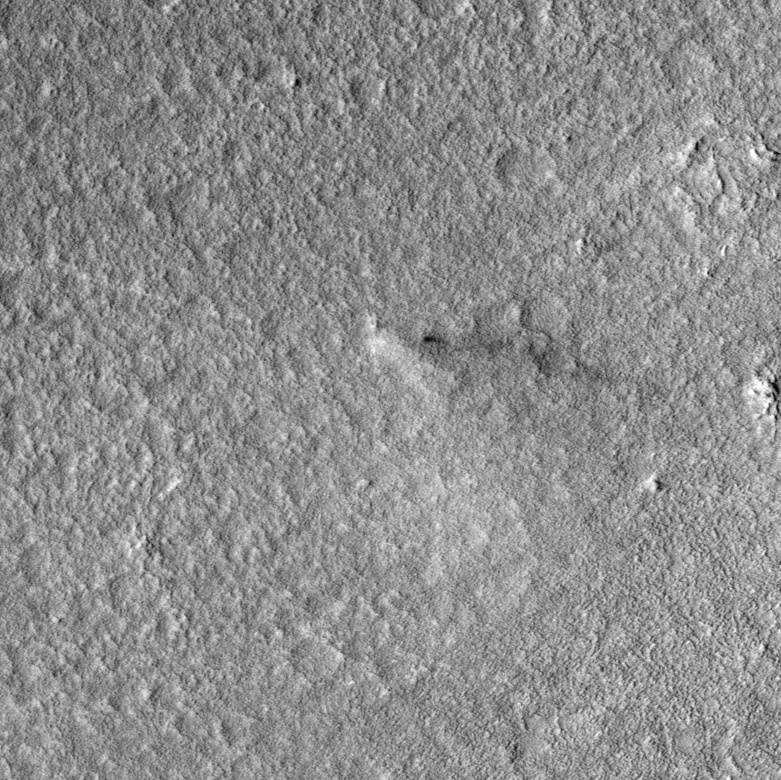dust_devil: (365, 322, 637, 400)
